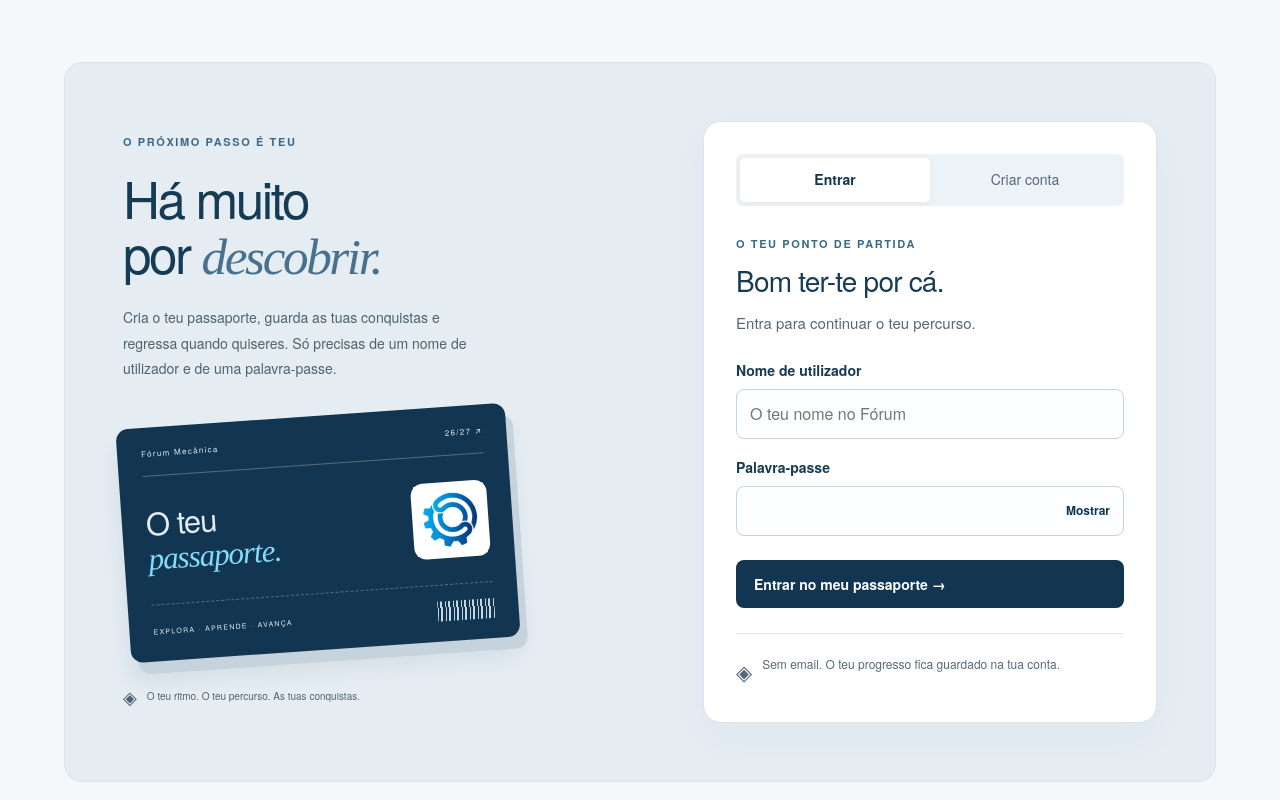
Passaporte › mostra erros de login
(page scrolled)
Type "ana" into the field labelled "Nome de utilizador" at (930, 414), box [736,389,1124,439]
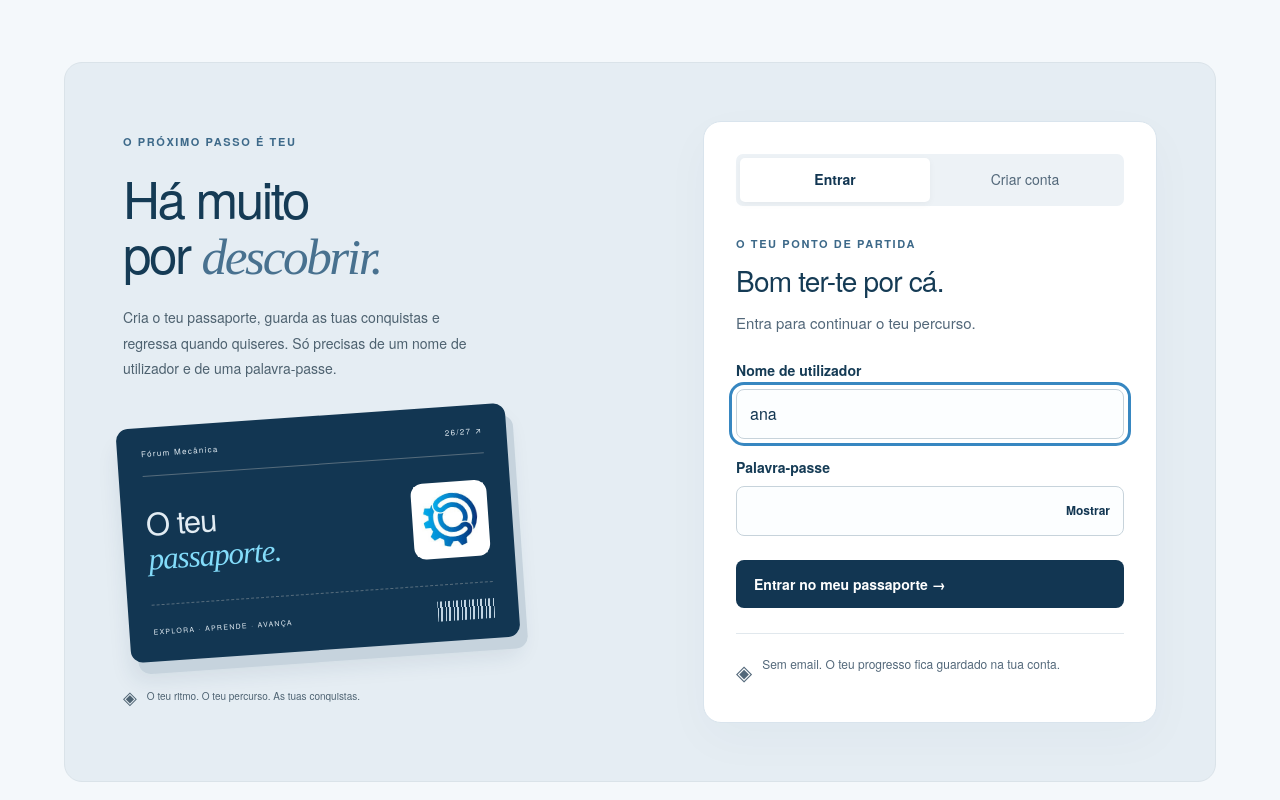
Type "errada" into the password field labelled "Palavra-passe" at (930, 511), box [736,486,1124,536]
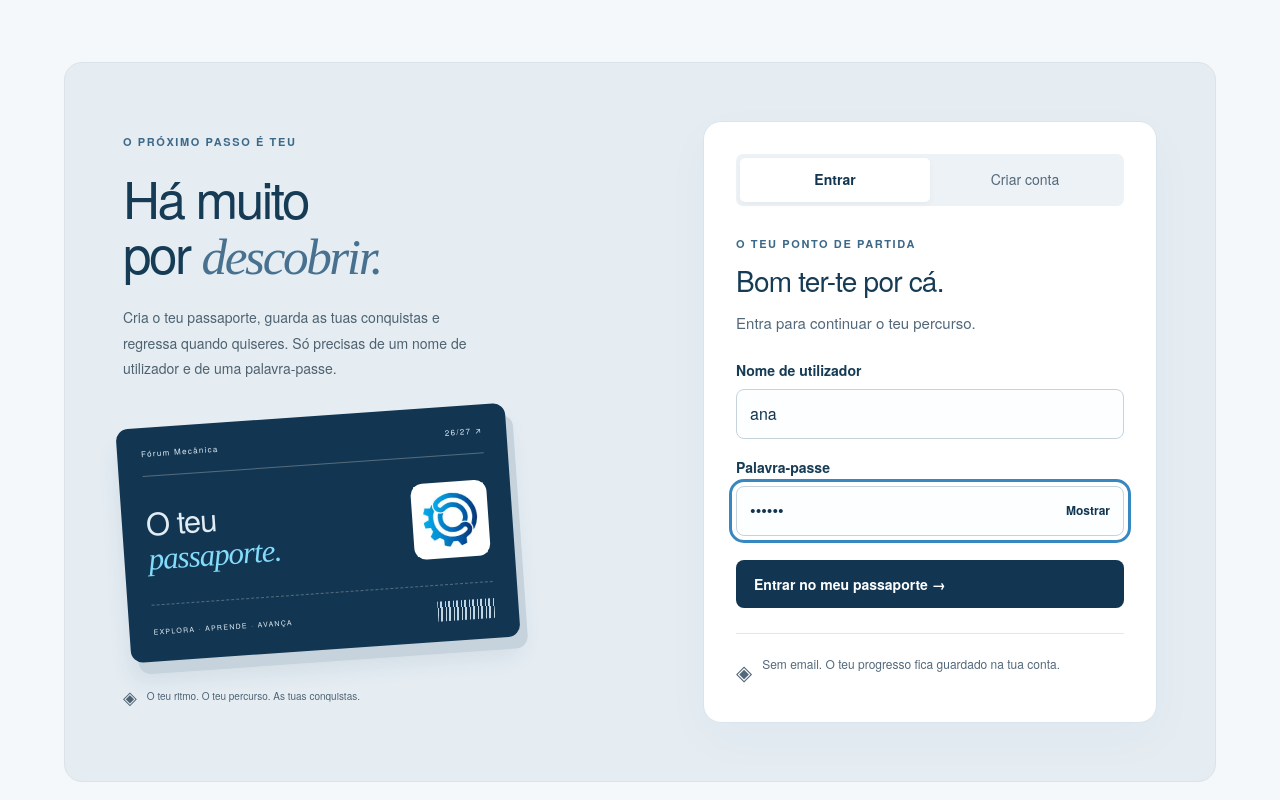
Click the button "Entrar no meu passaporte →" at (930, 584), box [736,560,1124,608]
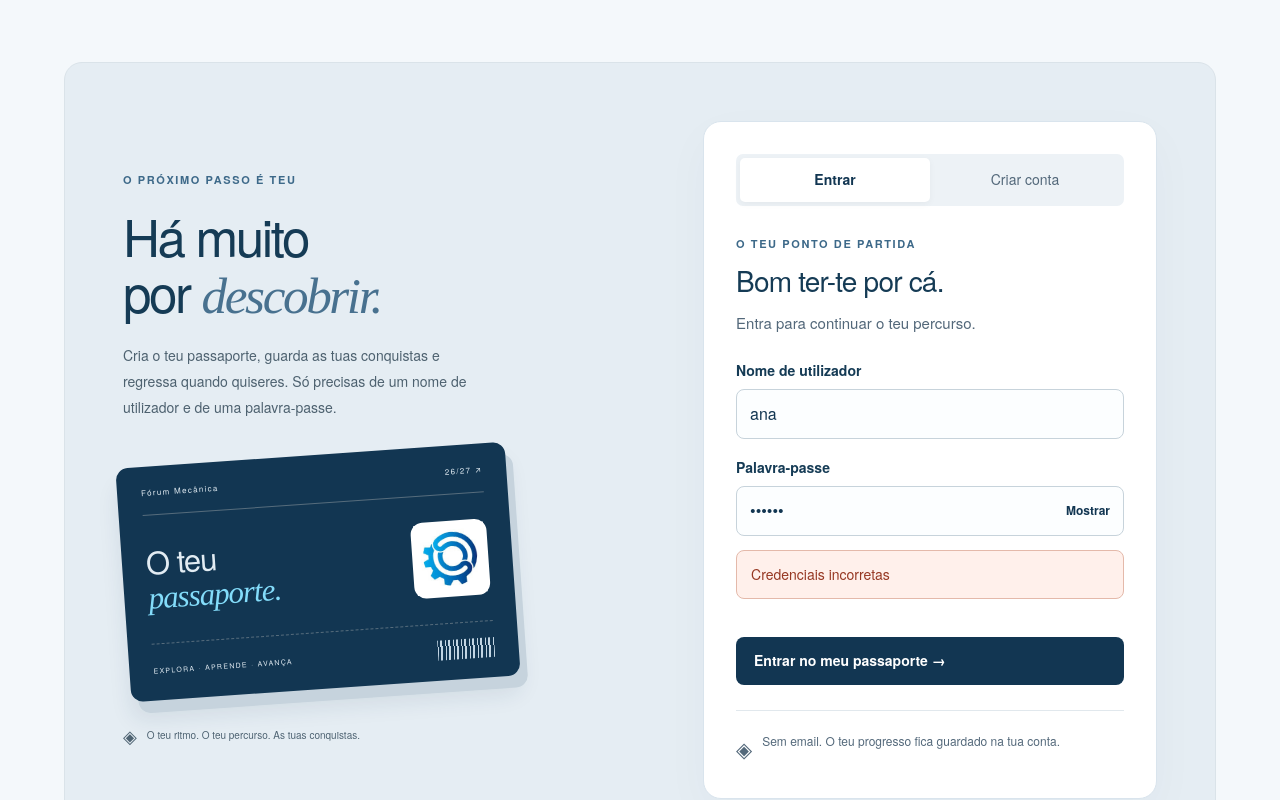
Expected: the message reads "Credenciais incorretas", [751,564,890,584]
